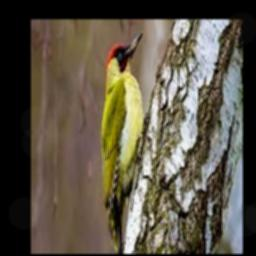Woodpecker: (100, 32, 151, 254)
